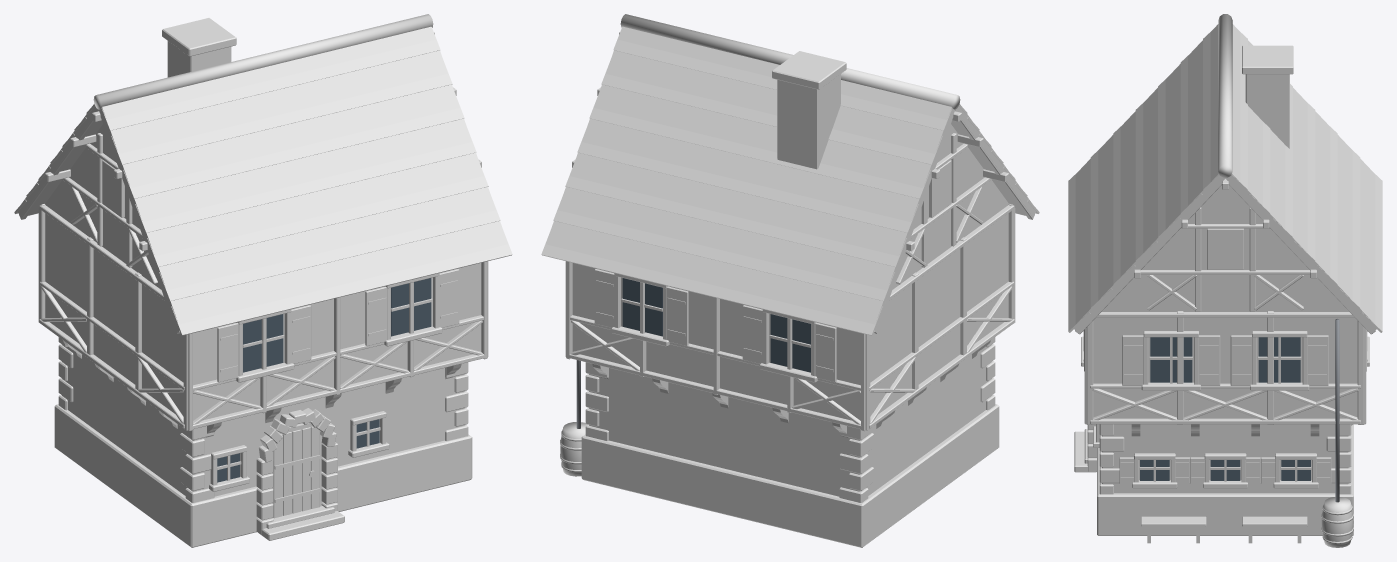
The model's file is bat_maison_colombages.fbx.
3 views of the same model, side by side, from view 1: azimuth 30°, elevation 25°; view 2: azimuth 150°, elevation 25°; view 3: azimuth 270°, elevation 25° (orthographic). The views are drawn at different scales.
Parts seen in each view (by area): view 1: bat_maison_colombages_LOD0; view 2: bat_maison_colombages_LOD0; view 3: bat_maison_colombages_LOD0.
Part boxes in pixels (x1,y1,x2,y2): bat_maison_colombages_LOD0: [14, 14, 512, 547]; bat_maison_colombages_LOD0: [541, 14, 1039, 547]; bat_maison_colombages_LOD0: [1068, 14, 1382, 547].
Size of what is drawn, in the model's own units: 7.8 by 9.31 by 6.68.
